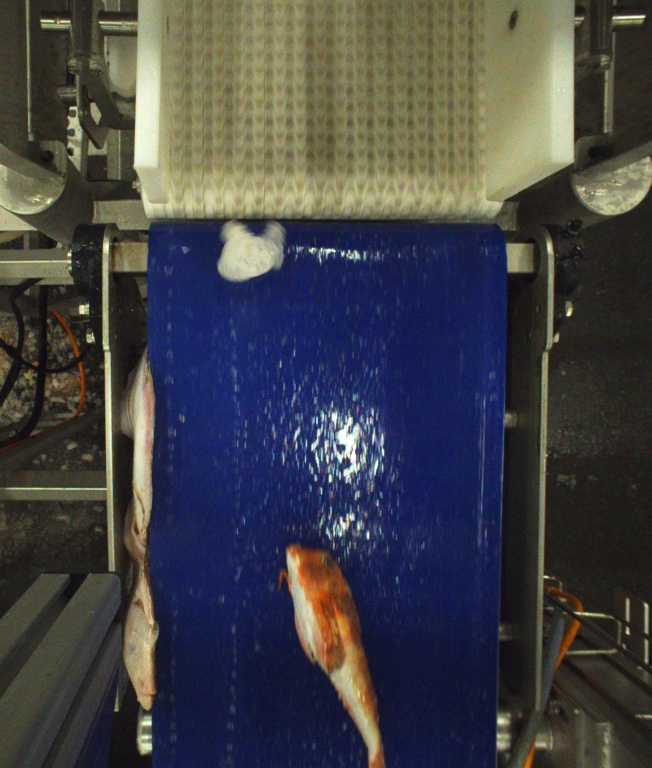GUU: (282, 543, 386, 767)
